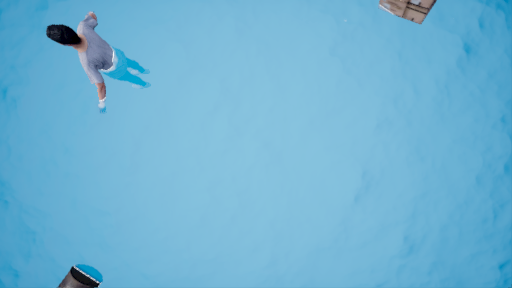person: (42, 10, 153, 111)
